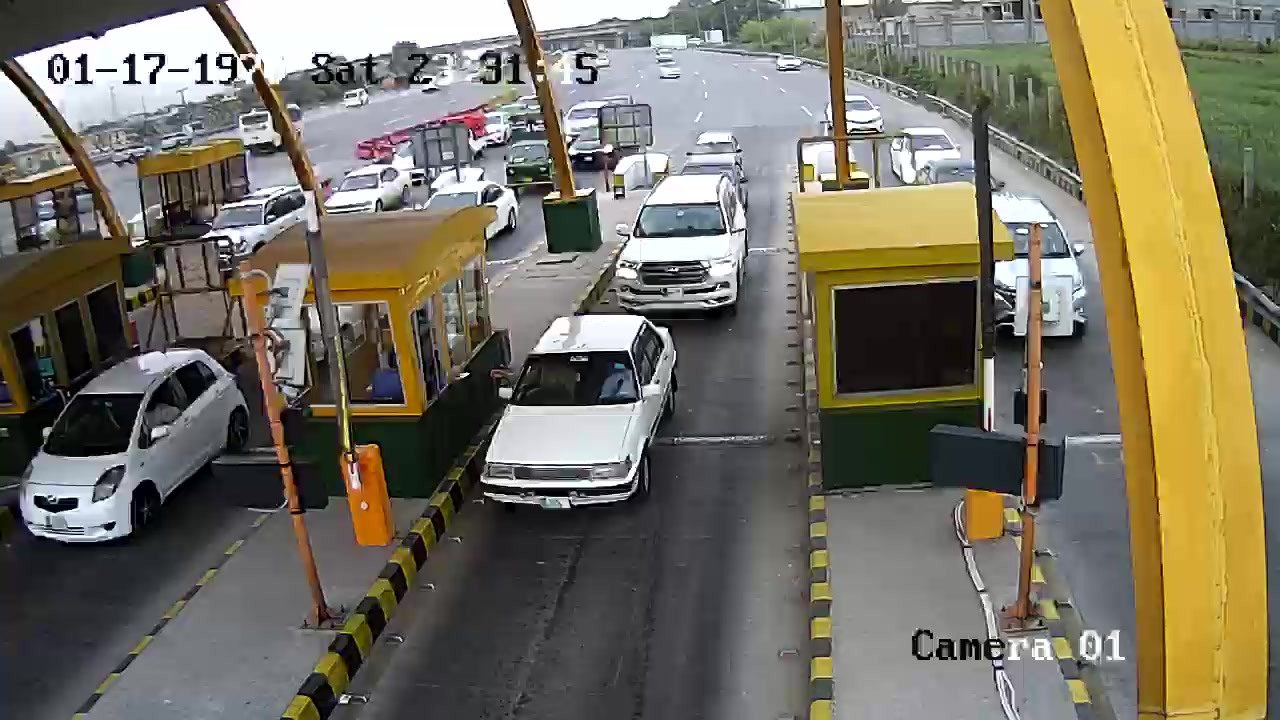F1: (472, 313, 700, 515)
